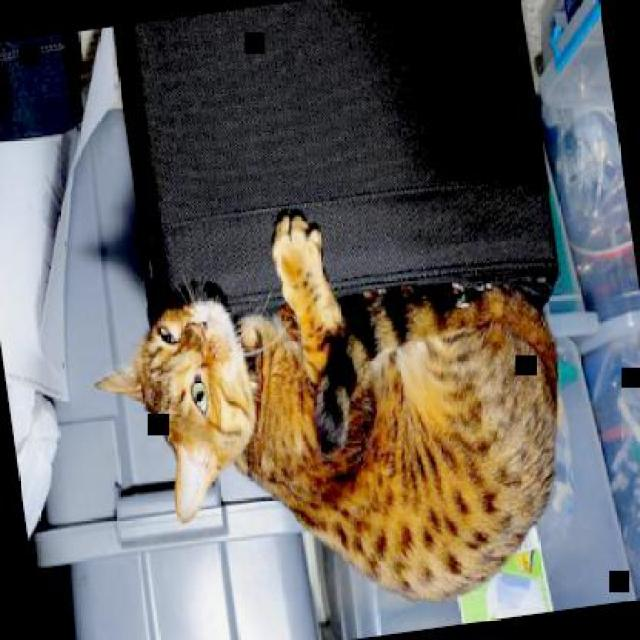cat: (72, 183, 591, 639)
